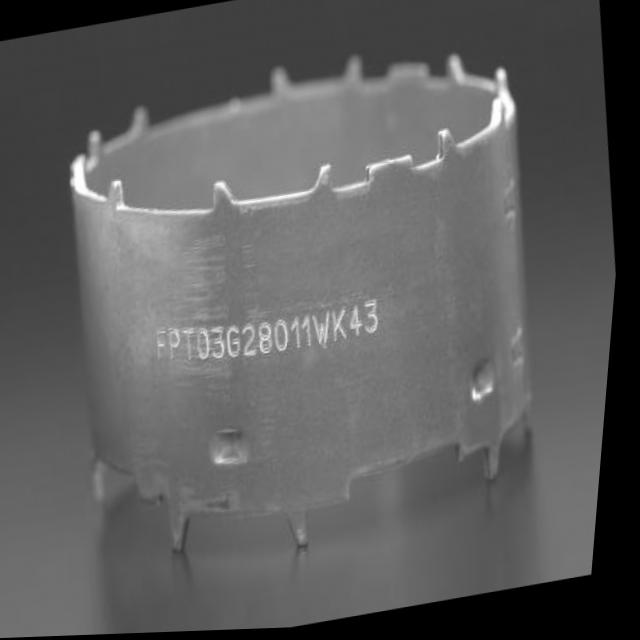ocr: (143, 289, 397, 386)
